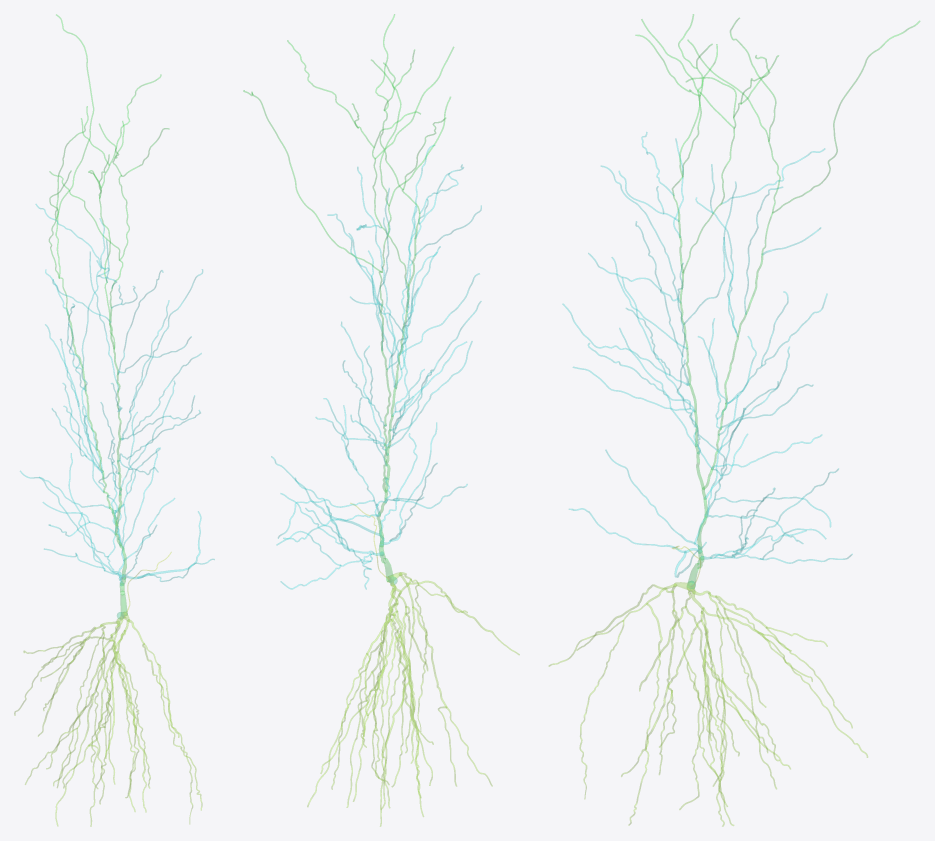
File: neuron.glb
3 renders of one model, left to right at view 1: azimuth 30°, elevation 25°; view 2: azimuth 150°, elevation 25°; view 3: azimuth 270°, elevation 25°, orthographic. The views are drawn at different scales.
Visible parts, largest first — view 1: CA1[0].user5_20; view 2: no part large enough to name; view 3: no part large enough to name.
Part boxes in pixels (x1,y1,x2,y2): CA1[0].user5_20: [55, 14, 93, 277].
Size of the model in its own units: 1.33 by 5.63 by 2.34.
